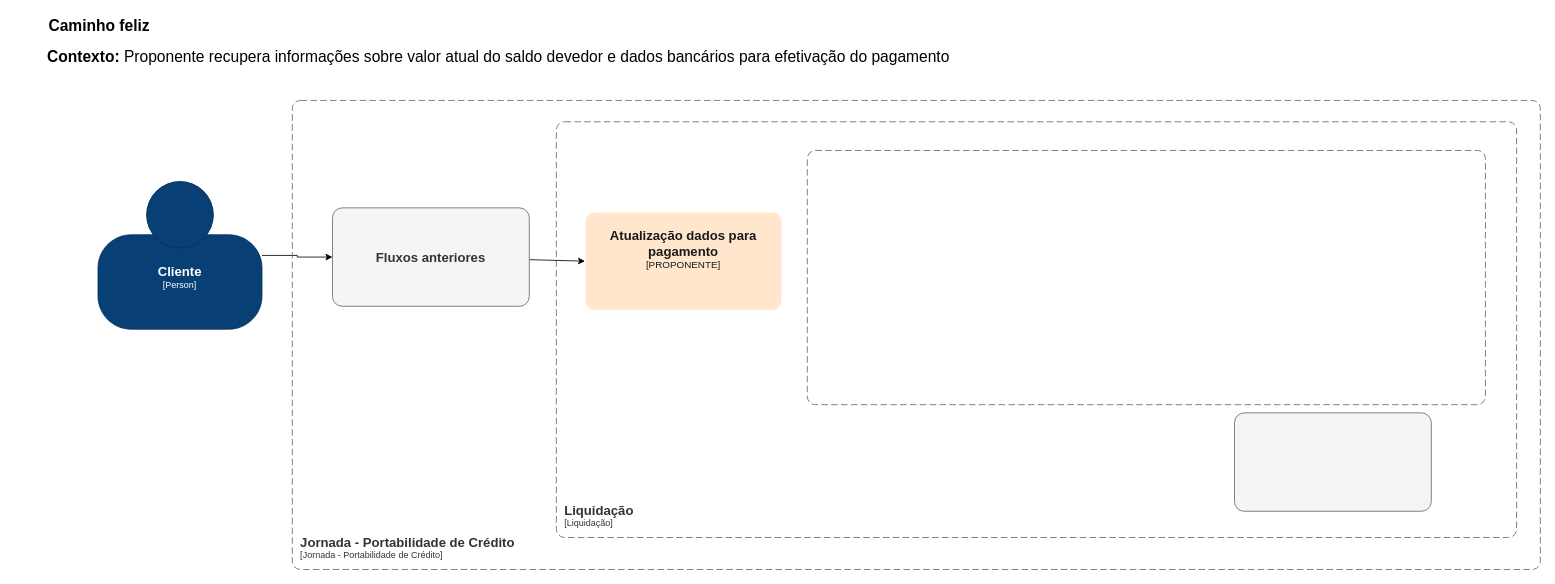
Image size: 1555x584. Some labels were removed from this diagram. The shapes that lost their labels are listed below. From the top down, each one's centre as x and y in pixels, then its label:
the point at 1145,277: Liquidação do contrato [Liquidação do contrato]
the point at 1332,461: Fluxos posteriores
